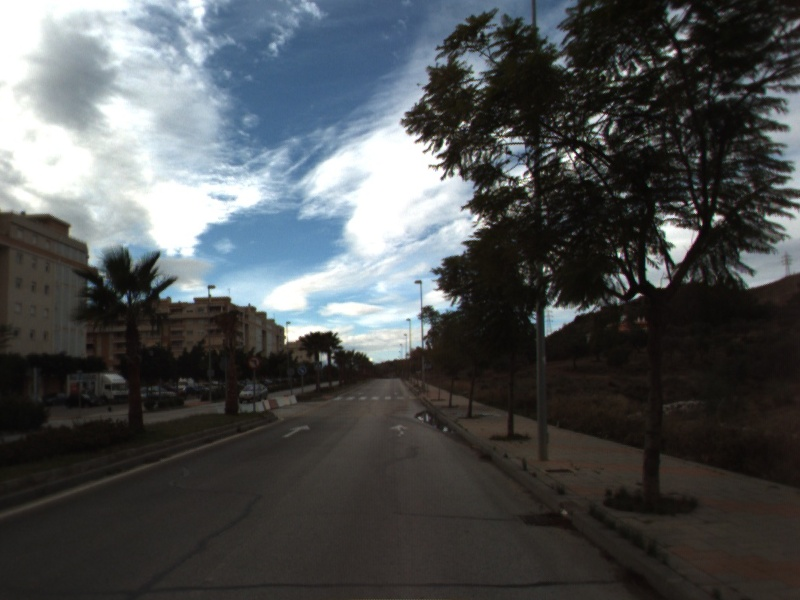STRAIGHT: (281, 422, 312, 439), (388, 422, 410, 438)
